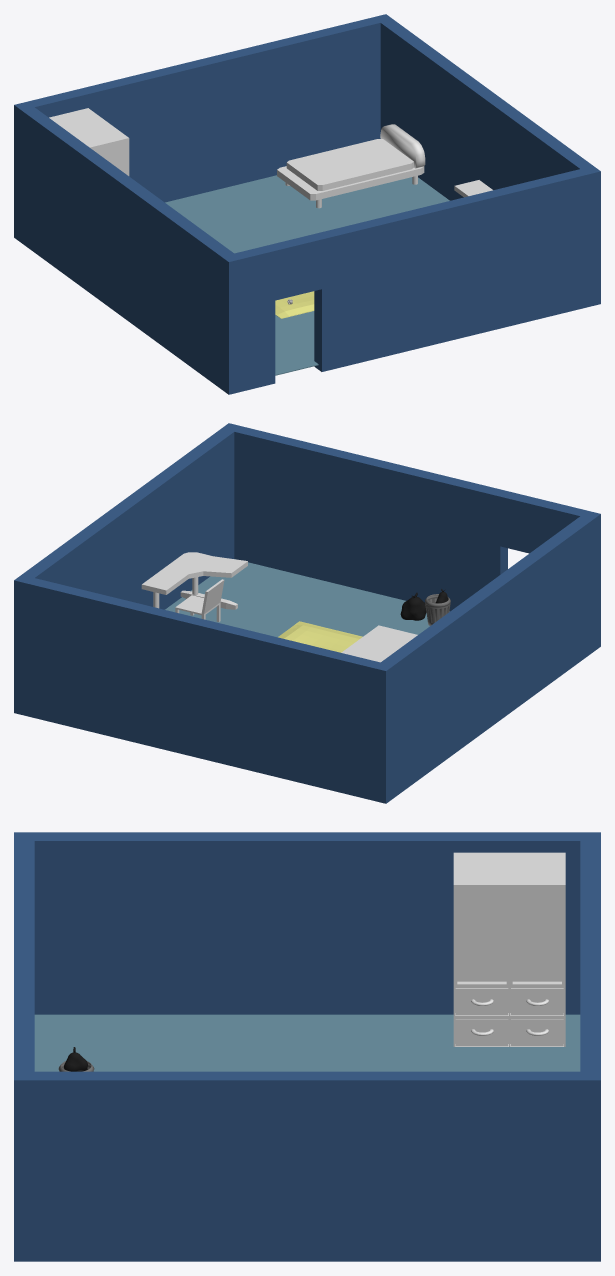
The model's file is Cleanworld Map 1.fbx.
The picture shows the model from 3 angles, top to bottom: view 1: azimuth 30°, elevation 25°; view 2: azimuth 150°, elevation 25°; view 3: azimuth 270°, elevation 25°; orthographic projection. The views are drawn at different scales.
Visible parts, largest first — view 1: Room Walls, Cube.001, Cube.003, Cabinet, Bed, Plane, Carpet; view 2: Room Walls, Cube.001, Table, Cabinet, Carpet, Chair, Trashcan, Trashbag.015; view 3: Room Walls, Cube.001, Cabinet.
Boxes of the visible parts, left/top/right/bottom form: Room Walls: left=14, top=14, right=600, bottom=394; Cube.001: left=165, top=175, right=449, bottom=375; Cube.003: left=286, top=139, right=413, bottom=190; Cabinet: left=49, top=108, right=129, bottom=175; Bed: left=277, top=166, right=424, bottom=200; Plane: left=380, top=124, right=425, bottom=168; Carpet: left=275, top=291, right=314, bottom=318; Room Walls: left=14, top=423, right=600, bottom=803; Cube.001: left=165, top=559, right=449, bottom=637; Table: left=141, top=552, right=247, bottom=594; Cabinet: left=341, top=625, right=417, bottom=662; Carpet: left=278, top=621, right=362, bottom=652; Chair: left=175, top=579, right=224, bottom=621; Trashcan: left=425, top=594, right=450, bottom=625; Trashbag.015: left=400, top=592, right=426, bottom=620; Room Walls: left=14, top=832, right=600, bottom=1261; Cube.001: left=34, top=1014, right=580, bottom=1071; Cabinet: left=453, top=852, right=565, bottom=1046.
Size of the model in its own units: 3698 by 1286 by 3698.
